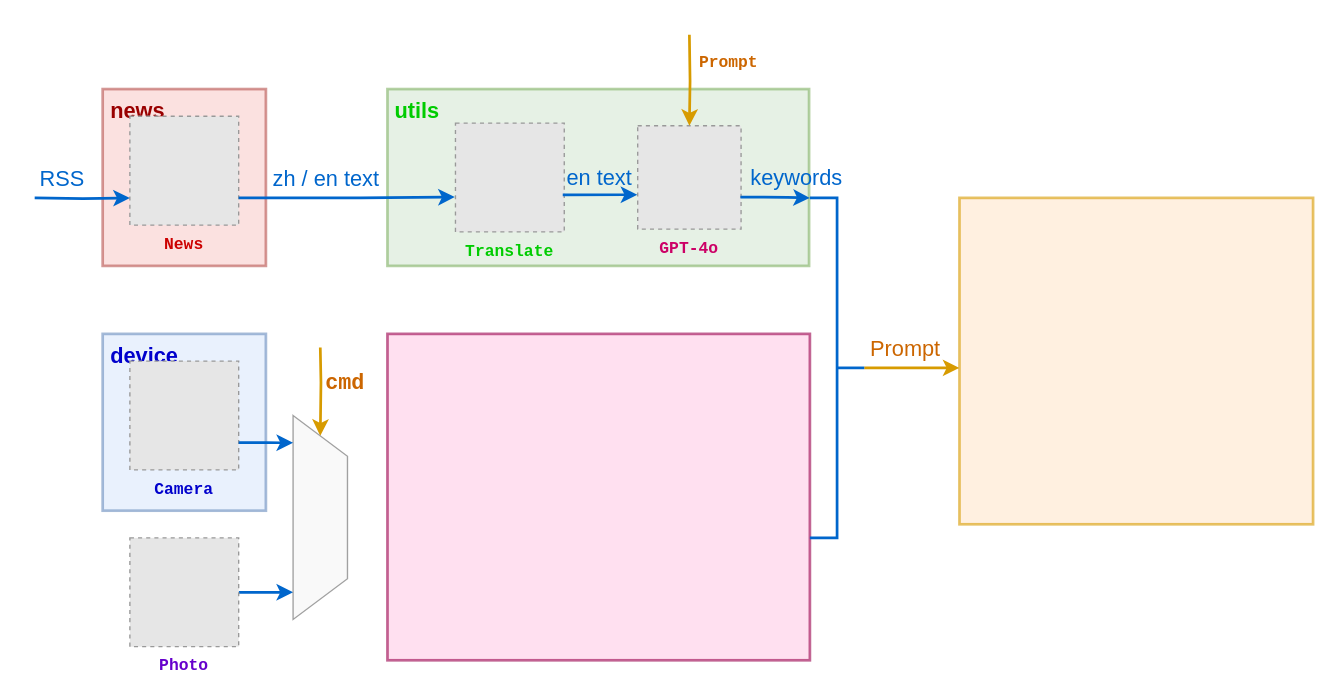
The diagram is 1337 pixels wide and 699 high, and some of its shapes have lost their labels. Grey dashed boxes stand in for pictures. Here are the shapes that lost their labels. From the top down, the centre of each, then its label:
point 1135,360: draw
point 598,496: mood
